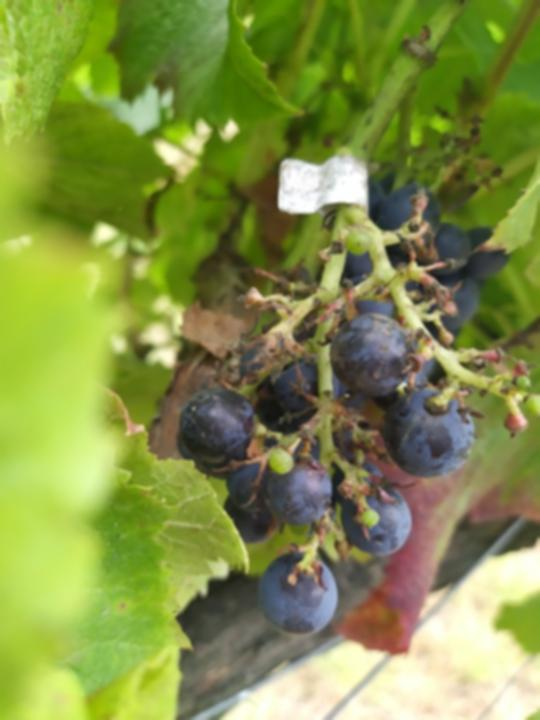grape: (173, 188, 537, 641)
